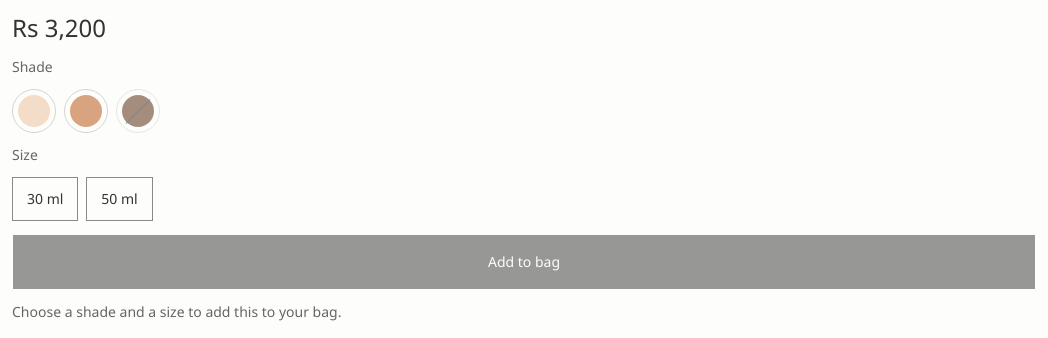
Test: VariantPicker, for a product with shades › names the chosen shade visibly, not only through the swatch
This screenshot has width=1048, height=338.
Click the radio button named "Porcelain": (34, 111) [12, 89, 56, 133]
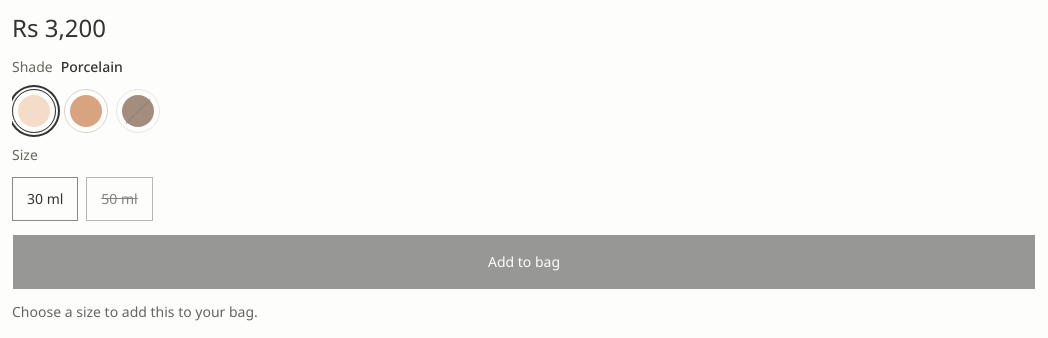
Expected: the text "Porcelain" is shown, [61, 57, 123, 76]
